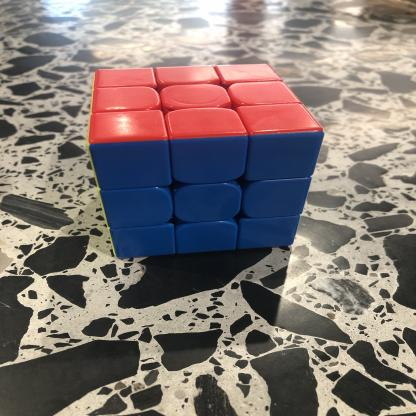SolvedCube: (78, 45, 325, 277)
